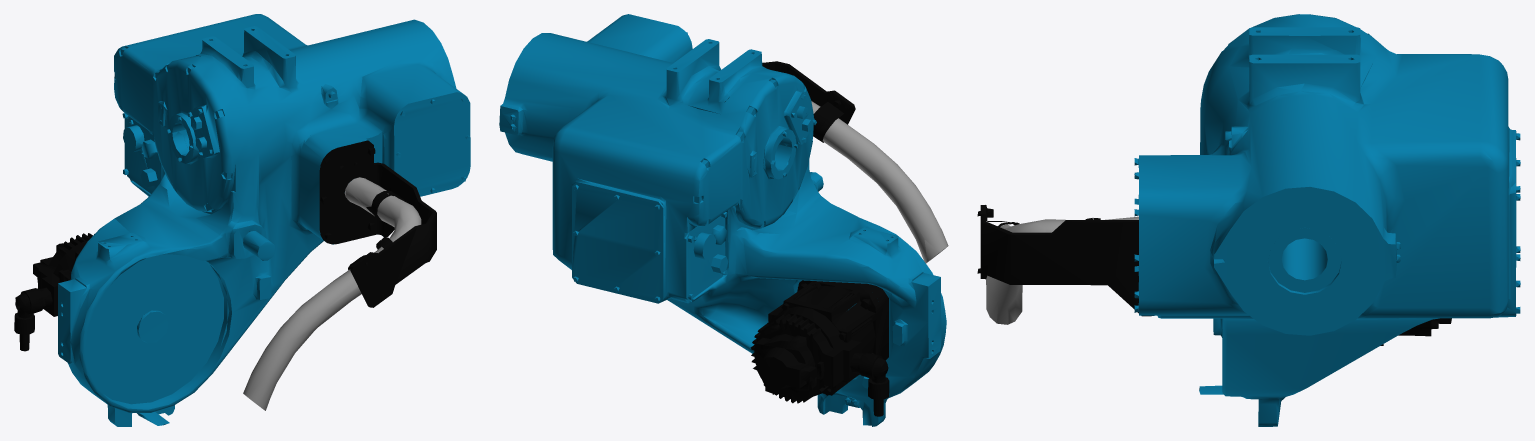
3 views of the same model, side by side, from view 1: azimuth 30°, elevation 25°; view 2: azimuth 150°, elevation 25°; view 3: azimuth 270°, elevation 25° (orthographic). The views are drawn at different scales.
Parts seen in each view (by area): view 1: gp20hl_lk3; view 2: gp20hl_lk3; view 3: gp20hl_lk3.
Part boxes in pixels (x1,y1,x2,y2): gp20hl_lk3: (14,14,470,426); gp20hl_lk3: (499,14,948,426); gp20hl_lk3: (977,14,1520,426).
Size of the model in its own units: 0.6339 by 0.5867 by 0.5339.
